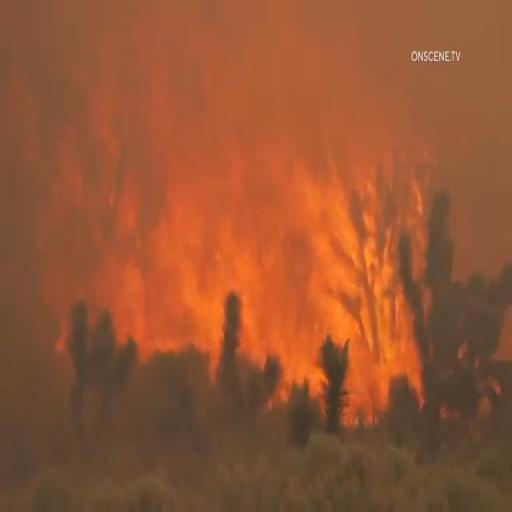fire: (58, 68, 448, 416)
